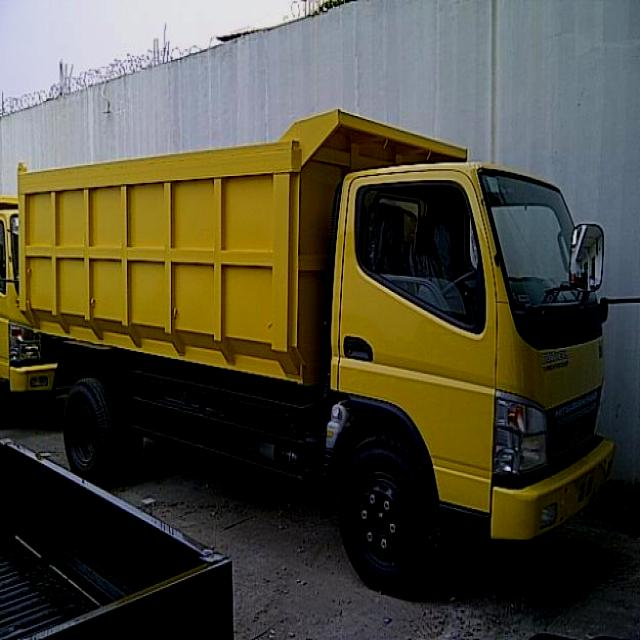truck: (18, 109, 617, 590)
